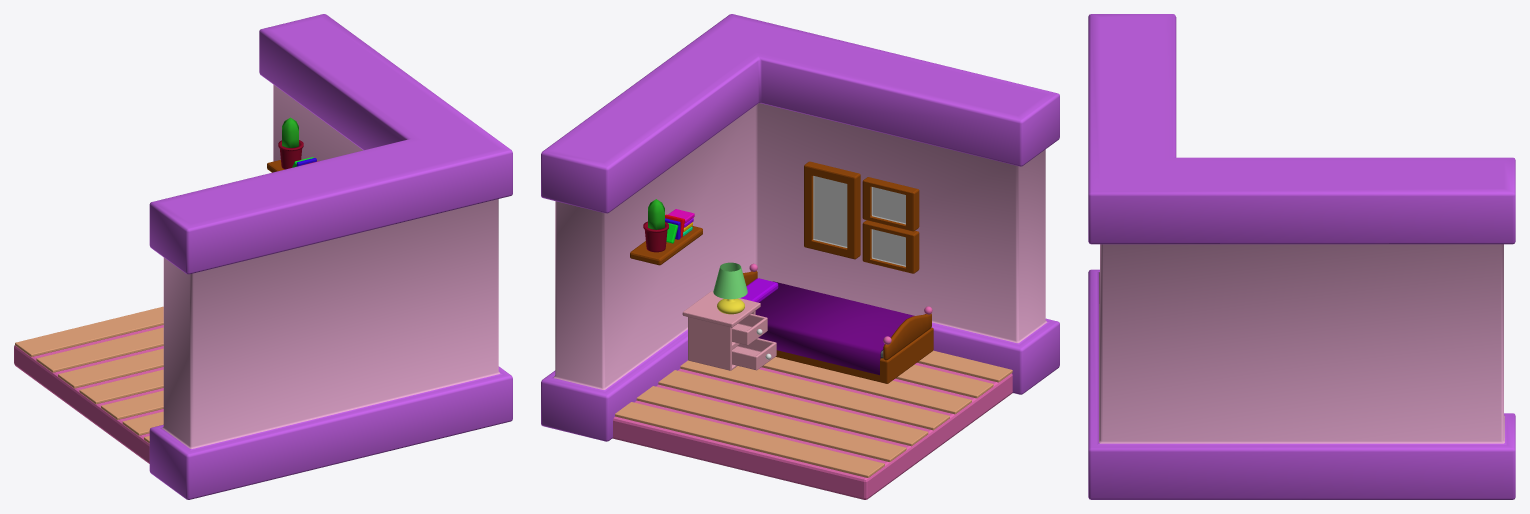
Rendered from cuarto_blender.fbx.
The picture shows the model from 3 angles, left to right: view 1: azimuth 30°, elevation 25°; view 2: azimuth 150°, elevation 25°; view 3: azimuth 270°, elevation 25°; orthographic projection. The views are drawn at different scales.
Visible parts, largest first — view 1: Cube, Plane.001, Plane; view 2: Cube, Plane.001, Plane, Plane.006, Cube.012, Cube.001, Cube.002, Cube.003, Plane.002, Plane.005, Cylinder.002, Cube.004 (+1 smaller); view 3: Cube.
Boxes of the visible parts, x1=… form: Cube: x1=149, y1=14, x2=512, y2=499; Plane.001: x1=15, y1=306, x2=163, y2=443; Plane: x1=14, y1=325, x2=163, y2=463; Cube: x1=541, y1=14, x2=1059, y2=441; Plane.001: x1=615, y1=350, x2=1012, y2=477; Plane: x1=612, y1=362, x2=1012, y2=499; Plane.006: x1=755, y1=281, x2=914, y2=375; Cube.012: x1=682, y1=291, x2=776, y2=370; Cube.001: x1=804, y1=161, x2=860, y2=259; Cube.002: x1=862, y1=177, x2=919, y2=231; Cube.003: x1=862, y1=220, x2=919, y2=273; Plane.002: x1=776, y1=327, x2=933, y2=383; Plane.005: x1=743, y1=271, x2=931, y2=360; Cylinder.002: x1=713, y1=262, x2=747, y2=299; Cube.004: x1=630, y1=226, x2=702, y2=265; Cube: x1=1088, y1=14, x2=1515, y2=499.
Size of what is drawn, in the model's own units: 252 by 200 by 252.
